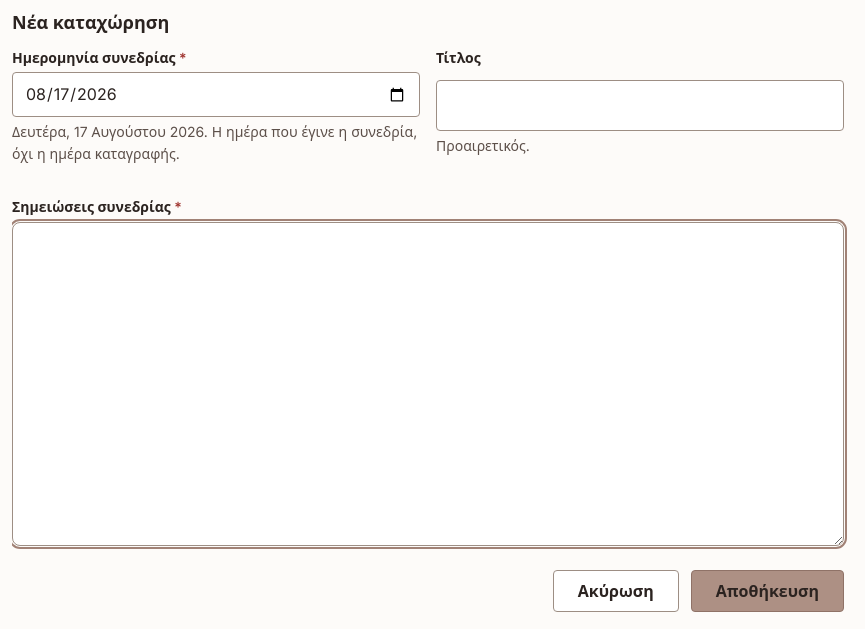
JournalEntryForm › should stop a date in the future before it reaches the server
Type "Κείμενο" into the text box labelled "Σημειώσεις συνεδρίας *" at (428, 384), box [12, 222, 844, 546]
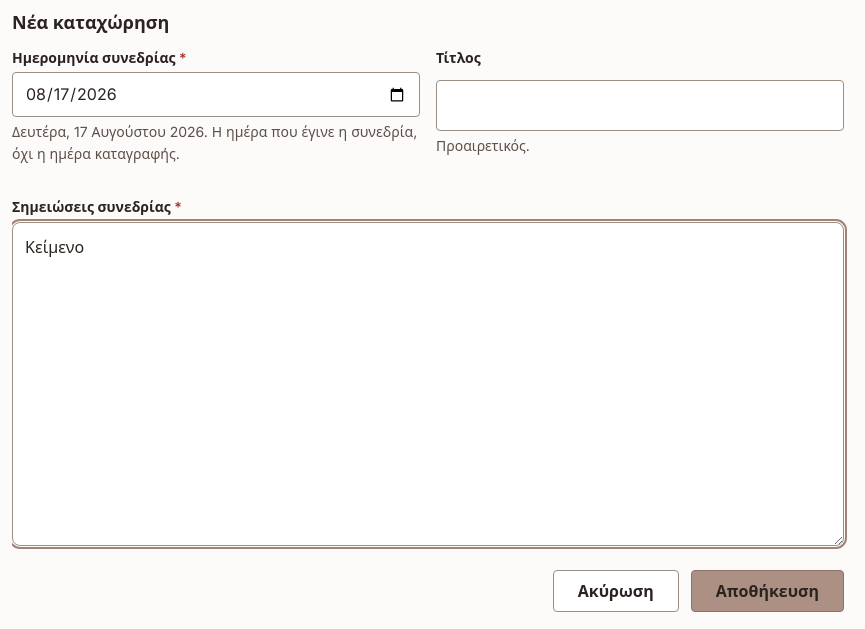
Type "2099-01-01" into the date field labelled "Ημερομηνία συνεδρίας *" at (216, 95), box [12, 72, 420, 117]
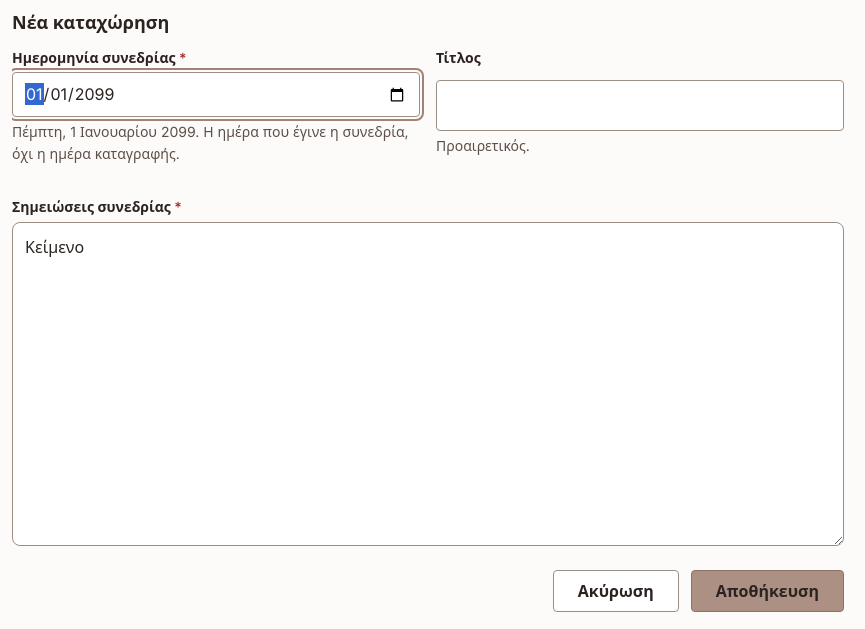
Click the button "Αποθήκευση" at (767, 591), box [691, 570, 844, 612]
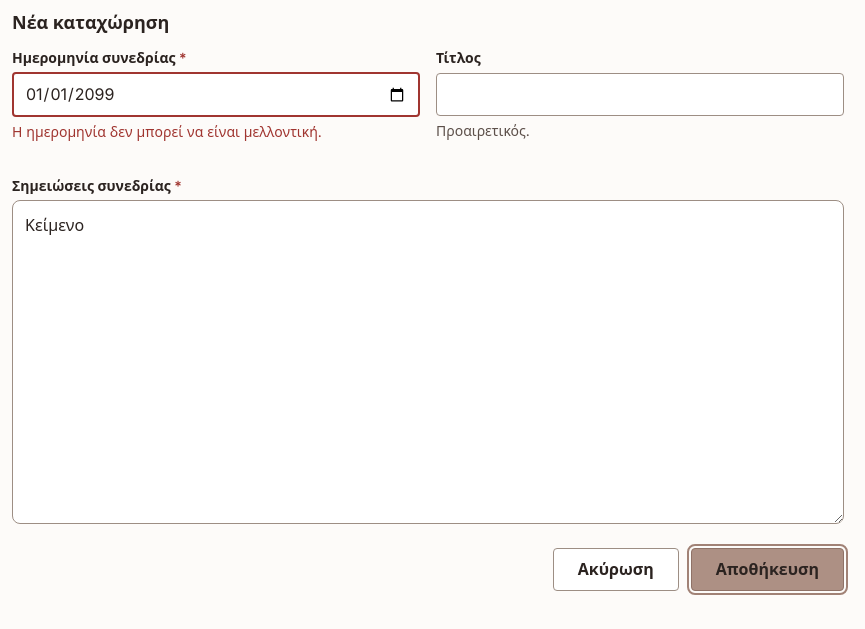
Now the text "Η ημερομηνία δεν μπορεί να είναι μελλοντική." is shown, box [12, 123, 322, 140]
